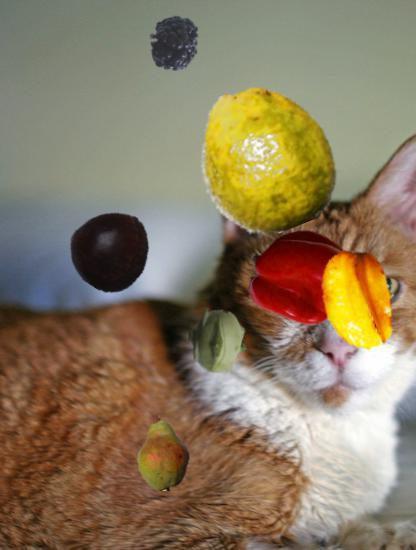Carambula: (308, 247, 412, 351)
Chestnut: (69, 208, 152, 291)
Guava: (191, 84, 341, 234)
Kohlrabi: (185, 308, 252, 375)
Mulberry: (149, 13, 216, 80)
Pear: (125, 414, 202, 491)
Pepper: (250, 226, 354, 330)
